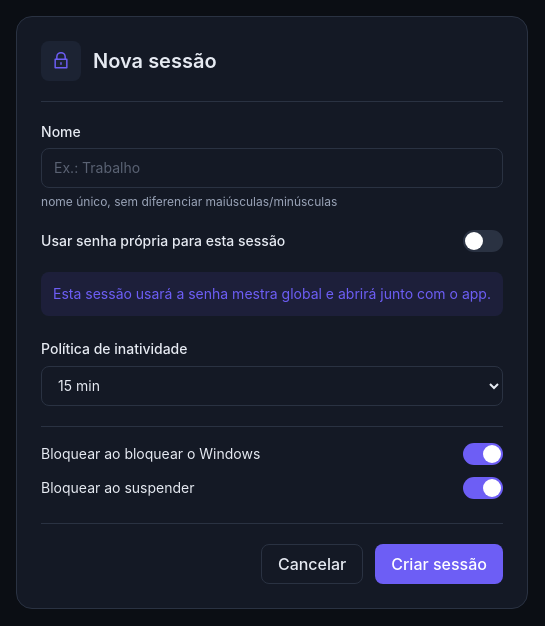
Scenario: CreateSession › bloqueia o envio quando o nome já existe
The image size is (545, 626).
In the field labelled "Nome": (272, 168) [41,148,503,188], type "trabalho"
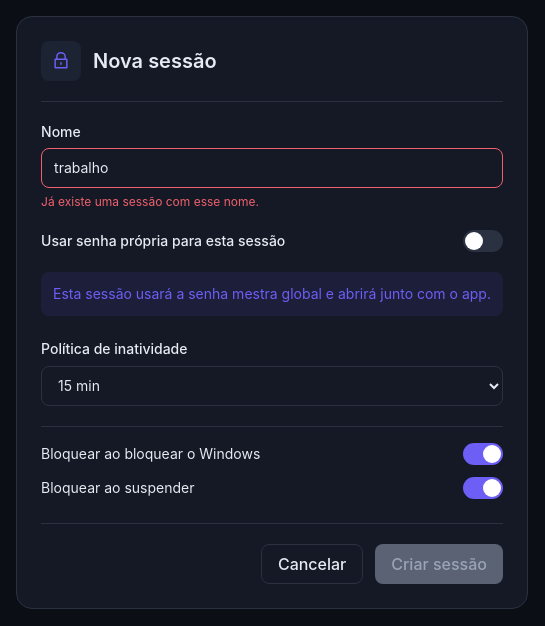
Check: the text "Já existe uma sessão com esse nome." is shown, box [41,194,259,208]
Check: the submit button is disabled, box [375,544,503,584]
